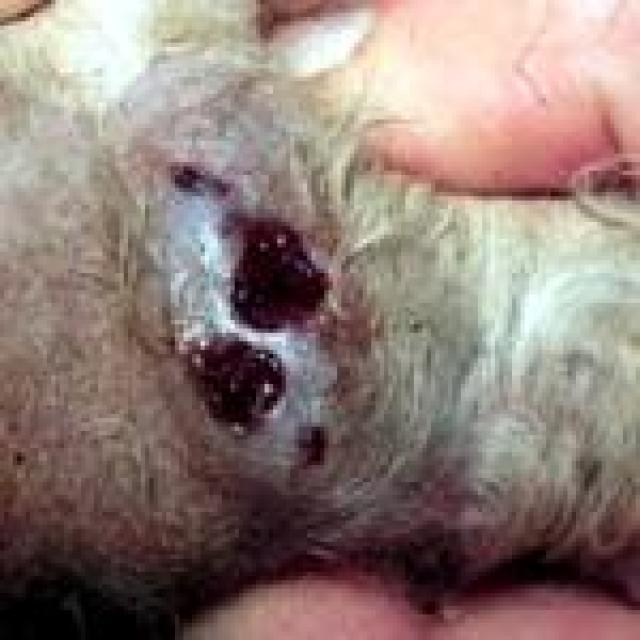fungal infection: (146, 135, 350, 472)
